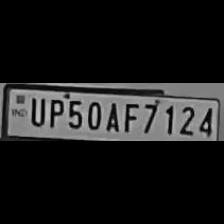0: (84, 98, 103, 130)
1: (160, 102, 174, 134)
2: (176, 103, 194, 135)
4: (194, 104, 214, 136)
5: (64, 96, 82, 130)
7: (140, 100, 158, 134)
A: (102, 100, 120, 132)
F: (120, 99, 138, 134)
P: (45, 96, 63, 128)
U: (27, 95, 45, 127)
